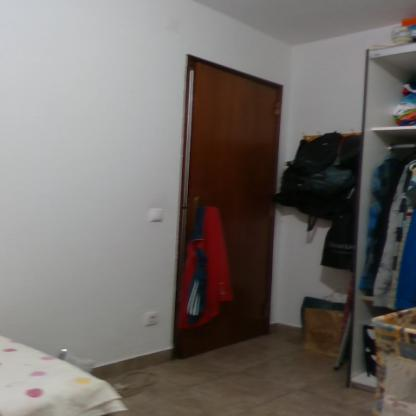door: (188, 60, 274, 350)
hinged: (274, 101, 282, 116), (265, 304, 271, 322)
